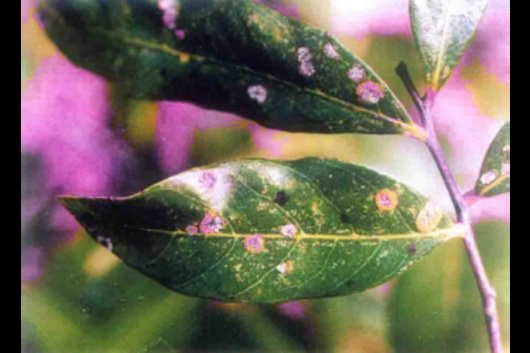Gall_Mite: (140, 179, 405, 257), (212, 44, 386, 115)
